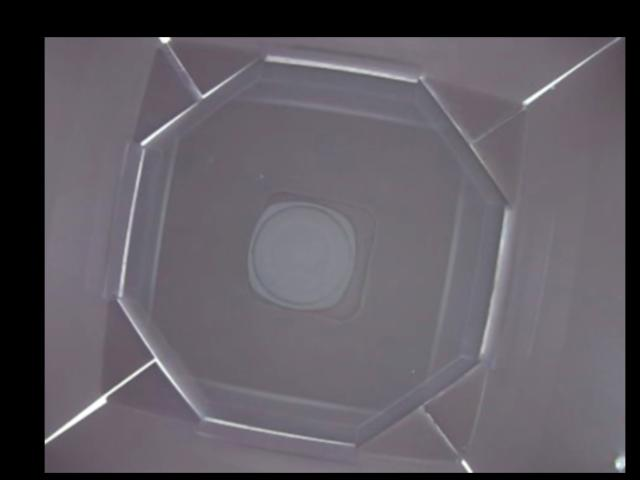Cup: (245, 192, 374, 321)
